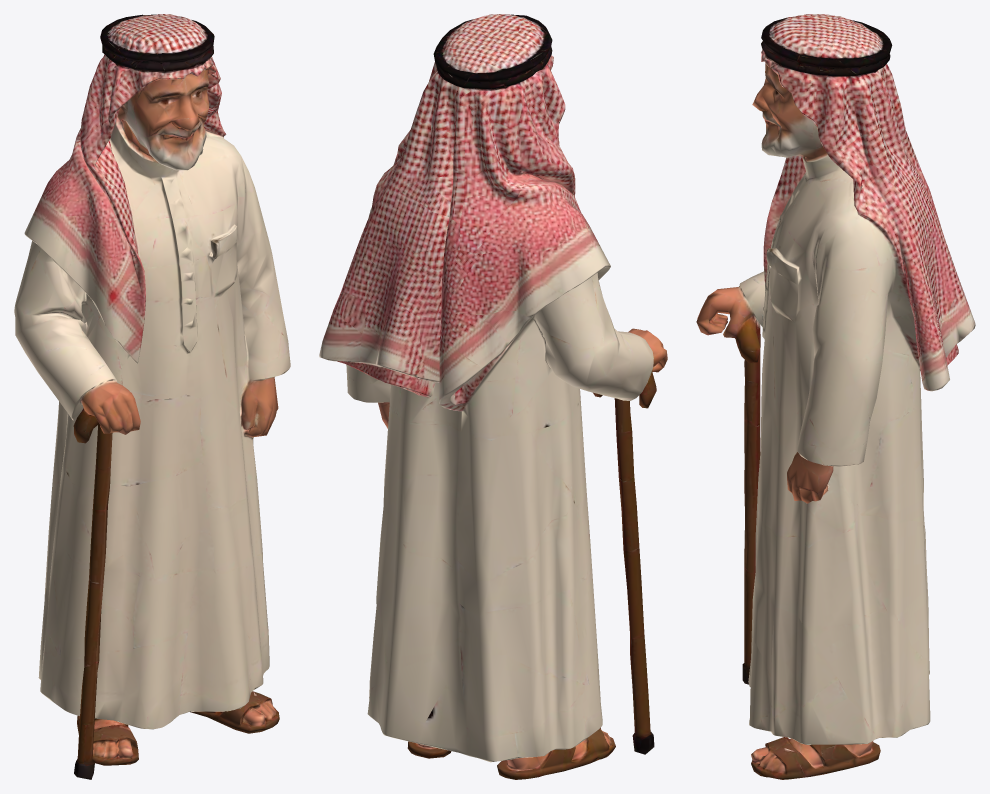
The model's file is walking_wisdom.glb.
3 views of the same model, side by side, from view 1: azimuth 30°, elevation 25°; view 2: azimuth 150°, elevation 25°; view 3: azimuth 270°, elevation 25° (orthographic). The views are drawn at different scales.
Size of the model in its own units: 0.7368 by 1.9 by 0.6741.
1 material, 1 textured.
